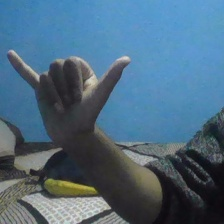Y: (4, 43, 134, 144)
